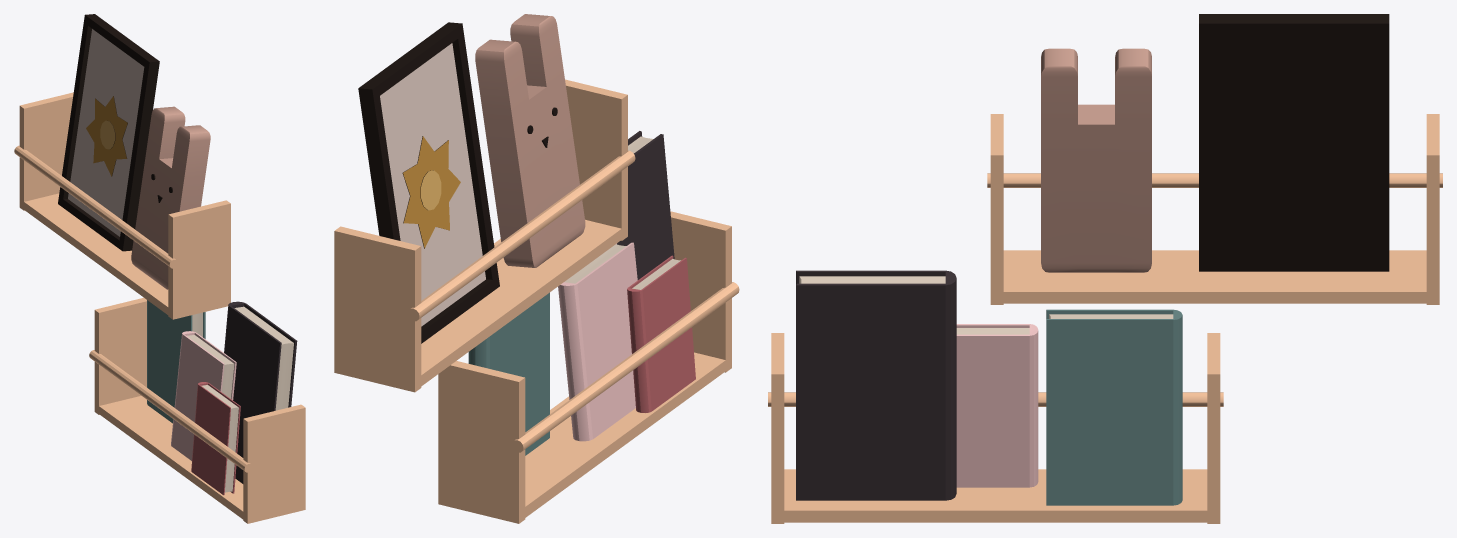
Rendered from Furn5_bookcase_right_color1_joined.fbx.
3 views of the same model, side by side, from view 1: azimuth 30°, elevation 25°; view 2: azimuth 150°, elevation 25°; view 3: azimuth 270°, elevation 25° (orthographic). The views are drawn at different scales.
Parts seen in each view (by area): view 1: Куб.295; view 2: Куб.295; view 3: Куб.295.
Part boxes in pixels (<box>): Куб.295: <box>14,14,305,523</box>; Куб.295: <box>334,14,739,523</box>; Куб.295: <box>768,14,1442,523</box>.
Size of the model in its own units: 42.04 by 221 by 269.
